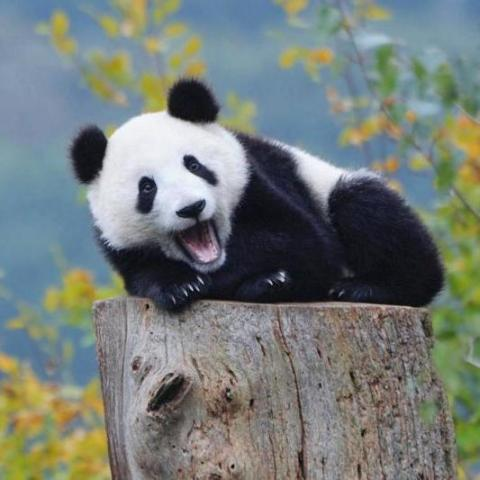panda: (55, 73, 453, 320)
